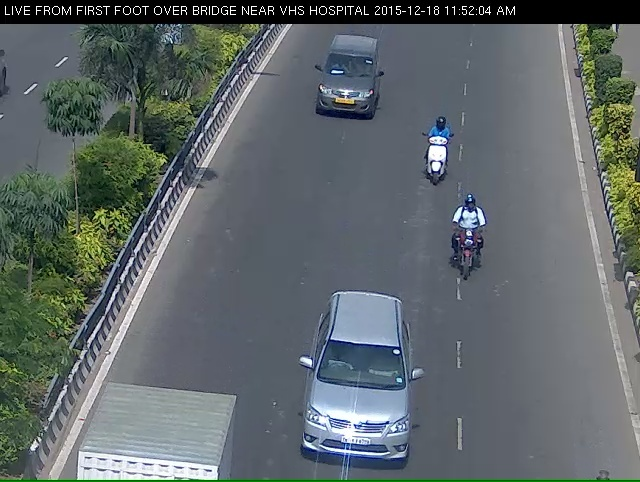Car: (300, 330, 419, 481), (314, 46, 379, 134)
Person: (450, 213, 490, 303), (419, 132, 457, 202)
